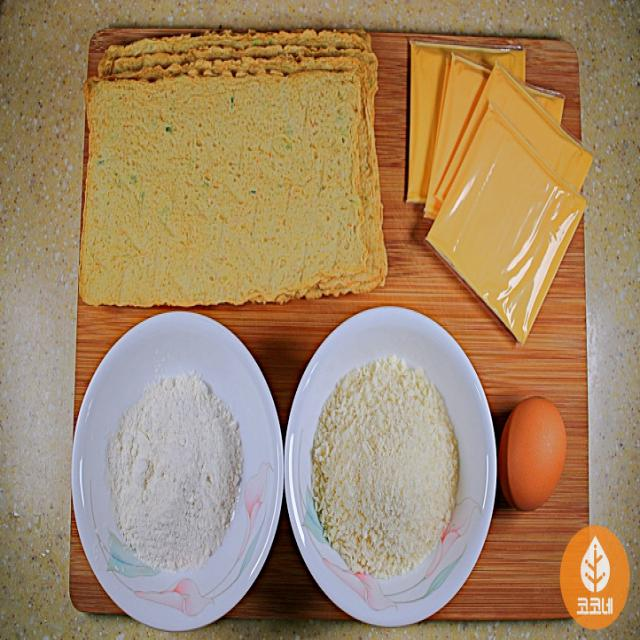cheese: (408, 40, 584, 328)
egg: (499, 378, 580, 514)
fish_cake: (84, 39, 390, 297)
